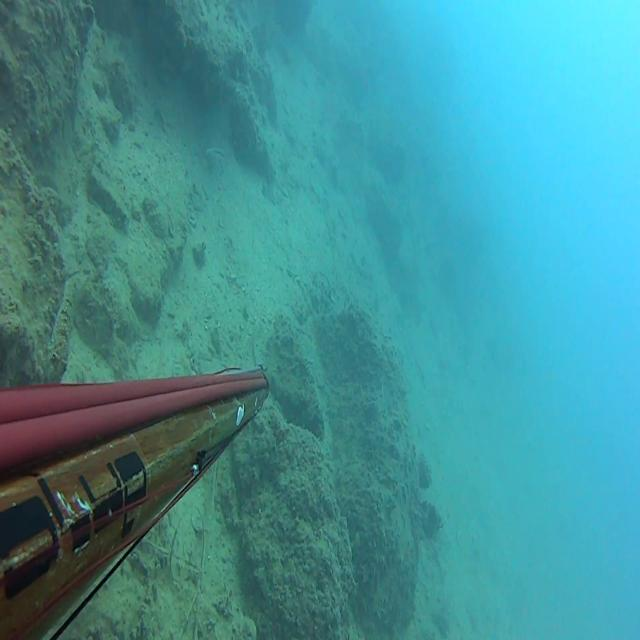Balon Baligi: (206, 147, 224, 159)
